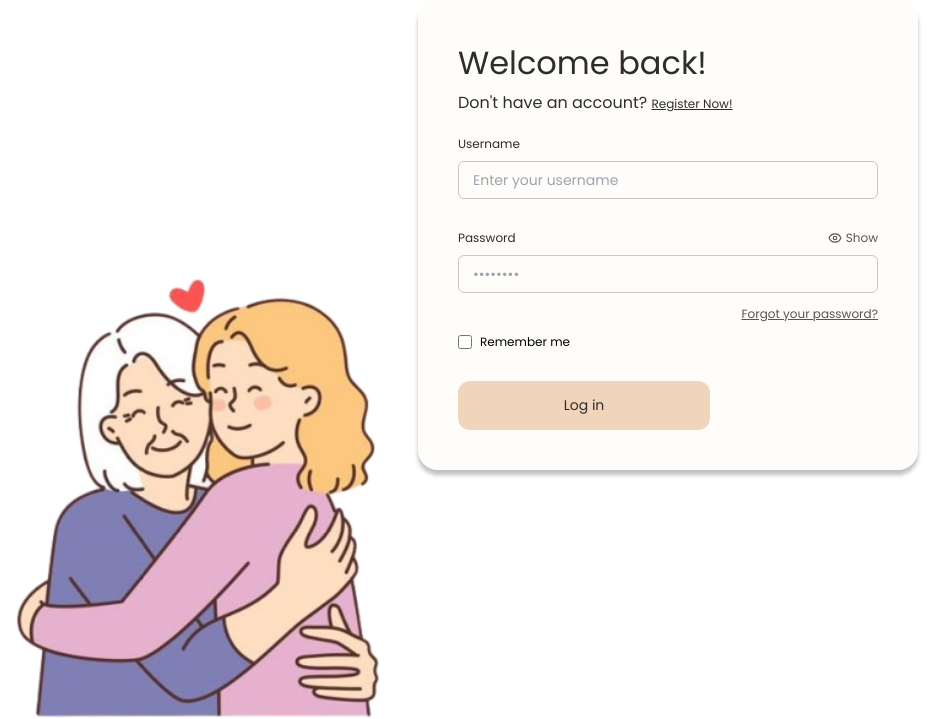
Test case: LoginCard component › toggles password visibility
Click the button "Show": (853, 238) [828, 229, 878, 247]
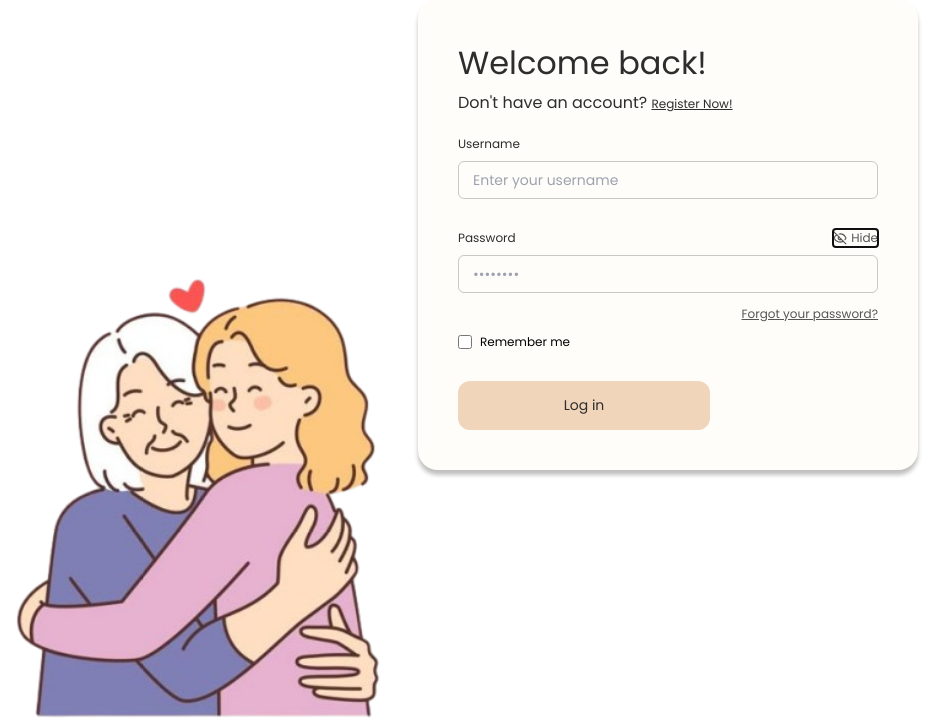
expect the text "Hide" is shown: met, box [851, 229, 878, 247]
Click the button "Hide": (856, 238) [833, 229, 878, 247]
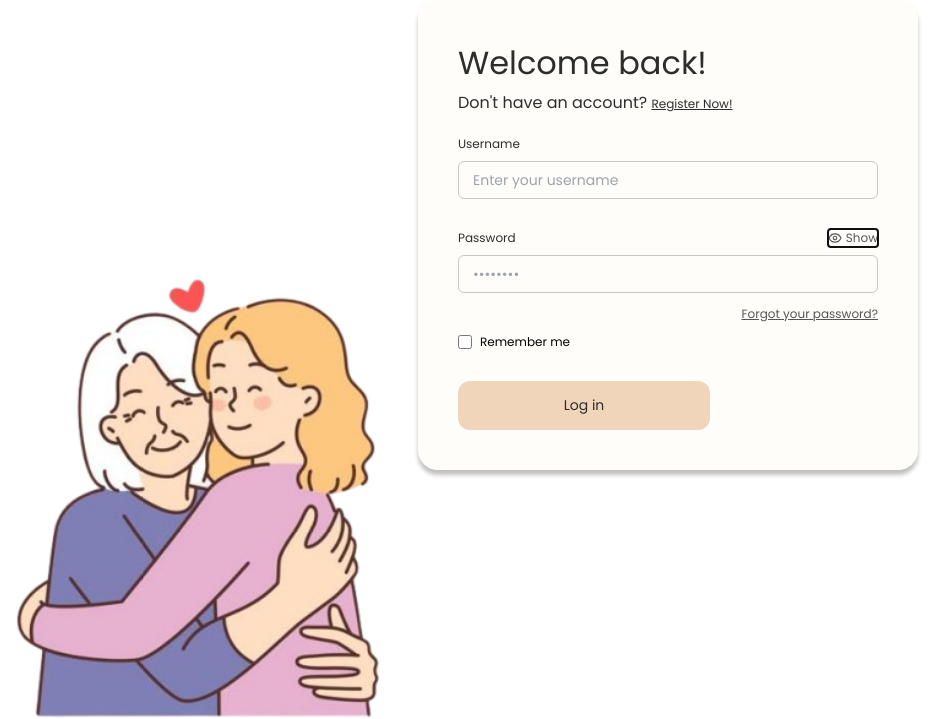
expect the text "Show" is shown: met, box [846, 229, 878, 247]
